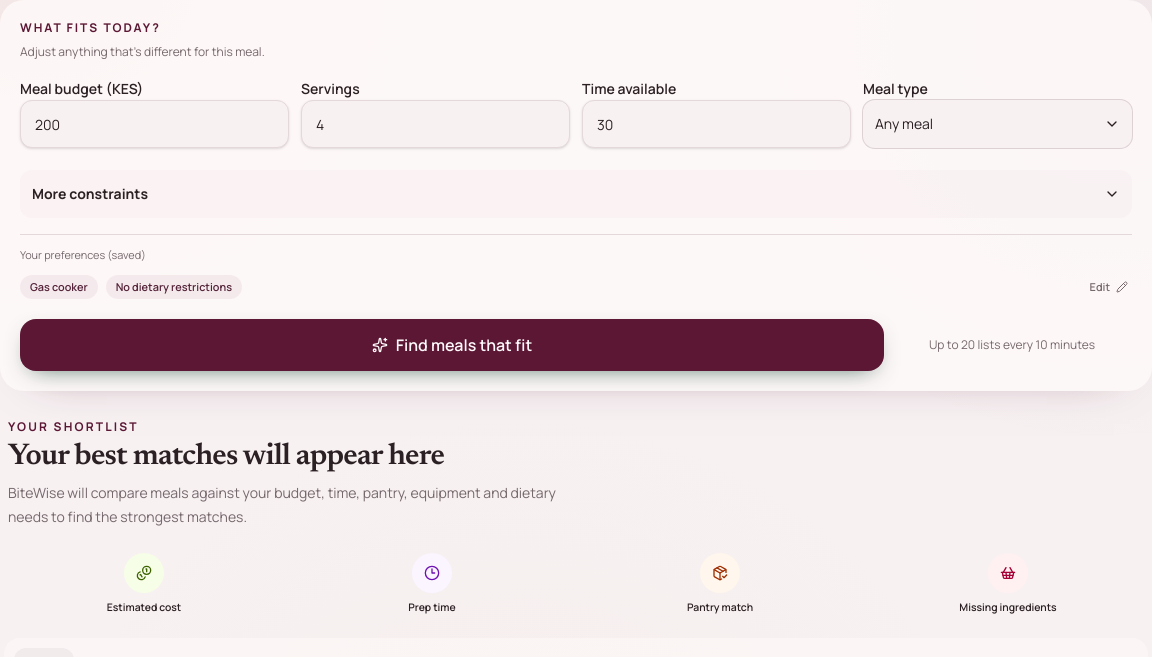
Test: RecommendationForm › shows the full form first and collapses to submitted values after success
Expected: the heading "Your best matches will appear here" is shown, [8,442,444,472]
Expected: the text "No dietary restrictions" is shown, [106,275,242,300]
Replace the text in the number field labelled "Meal budget (KES)" with "350" at {"x": 154, "y": 124}, box [20,100,289,148]
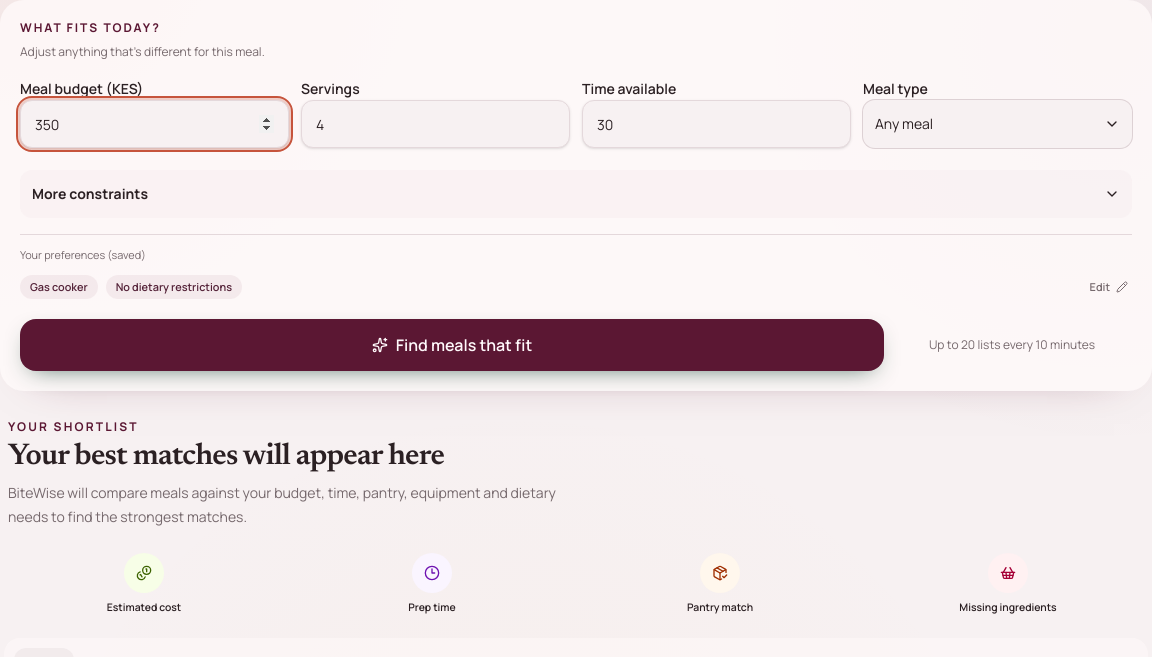
Click the button "Find meals that fit" at {"x": 452, "y": 345}, box [20,319,884,371]
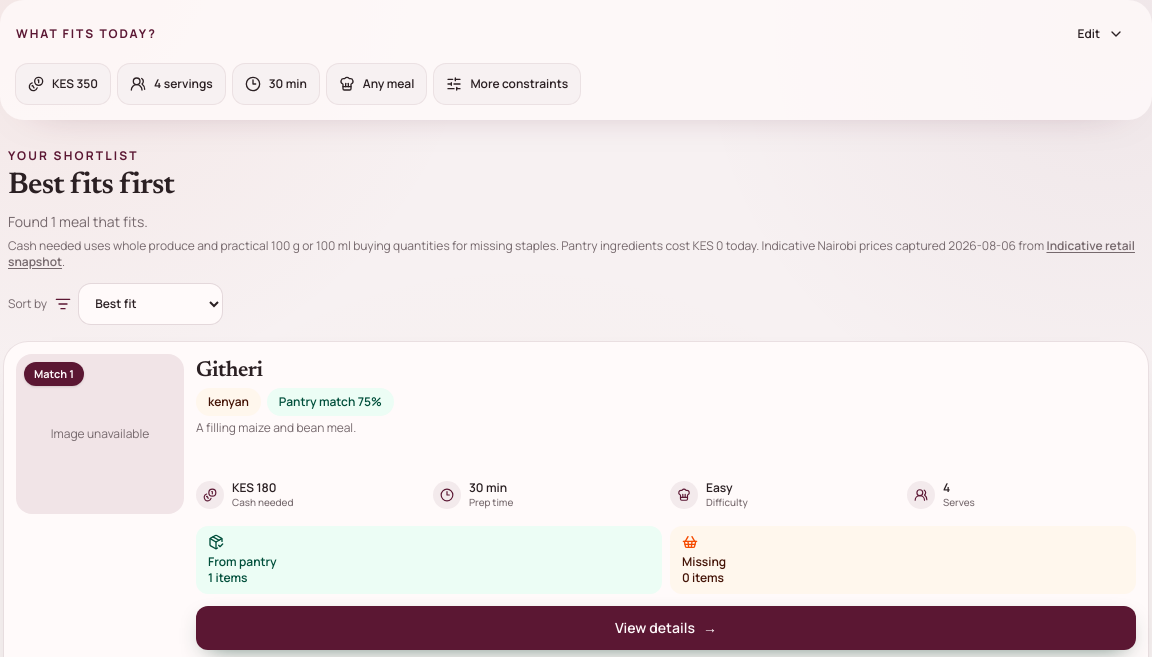
Now the label labelled "Meal budget (KES)" is gone
Now the text "KES 350" is shown, box [16,64,110,104]
Now the text "KES 180" is shown, box [232,479,276,496]
Click the button "Edit" at {"x": 1101, "y": 34}, box [1066,16,1136,52]
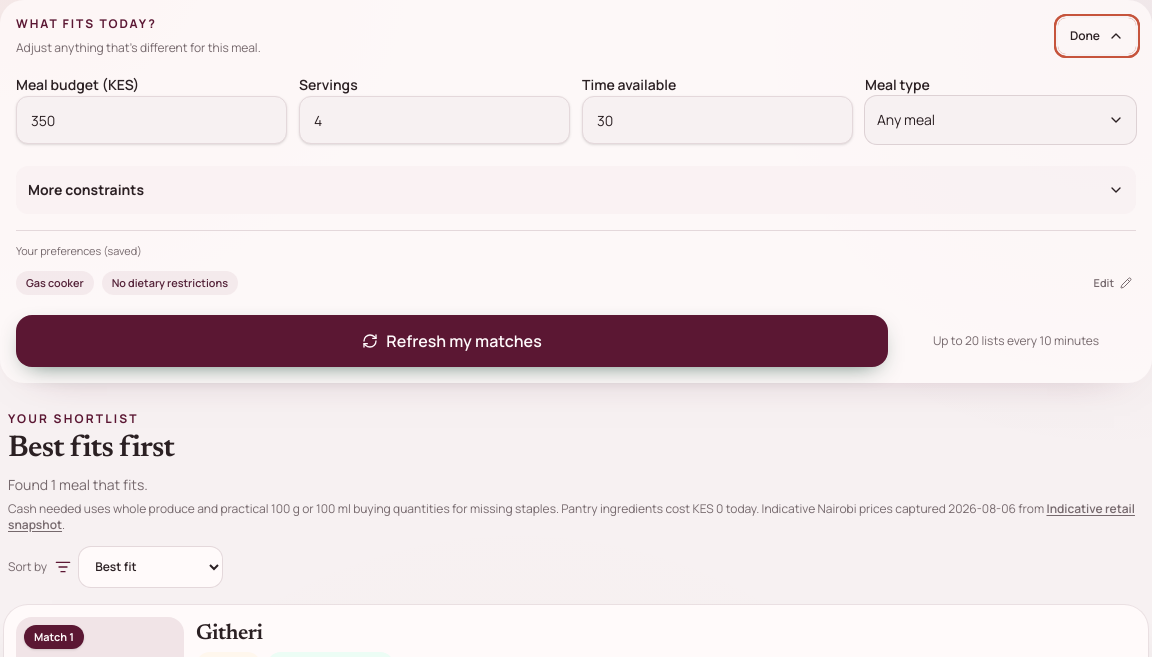
Now the number field labelled "Meal budget (KES)" holds "350", box [16,96,287,144]
